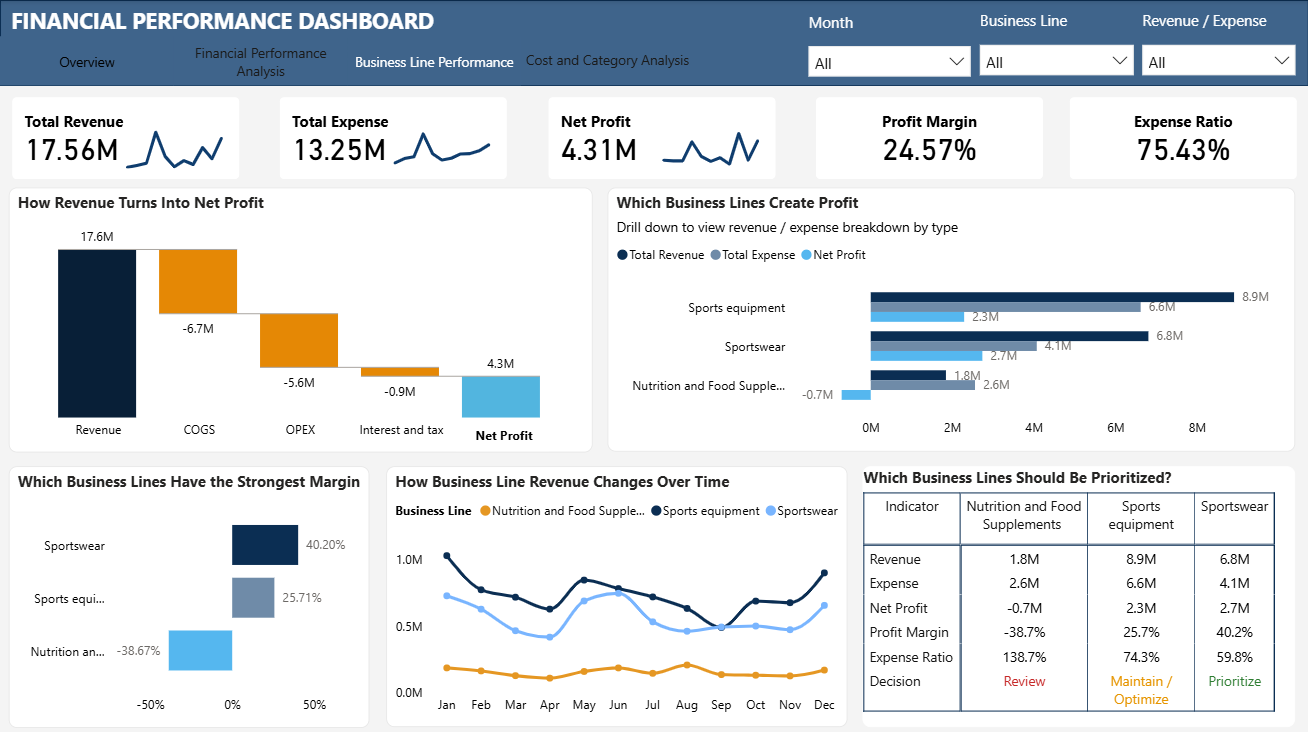

Layout of this report page (visuals, bound fields, positions):
{"tool":"powerbi","page":{"name":"Business Line Performance","canvas":[1280,720],"ordinal":2},"visuals":[{"type":"shape","box":[0,0,1280.3,84.2],"z":0},{"type":"cardVisual","fields":{"Data":["Measure.Expense Ratio"]},"box":[1034.1,83.2,246.2,104.9],"z":0,"group":"g8"},{"type":"textbox","box":[0,0,491.6,51.4],"z":1000},{"type":"group","id":"g1","title":"Group 3","box":[0,83.2,259.7,104.9],"z":1000,"group":"g8"},{"type":"waterfallChart","title":"How Revenue Turns Into Net Profit","fields":{"Category":["Waterfall Steps Simple.Step"],"Y":["Waterfall Steps Simple.Waterfall Step Value Simple"]},"box":[8.6,183.9,571.1,259.2],"z":1000,"group":"g9"},{"type":"actionButton","title":"Overview","box":[0,35.5,170,47.7],"z":2000},{"type":"group","id":"g2","title":"Group 3","box":[262,83.2,260.1,105.2],"z":2000,"group":"g8"},{"type":"actionButton","box":[170,35.5,170,47.7],"z":3000},{"type":"slicer","fields":{"Values":["Dim_BusinessLine.Business Line"]},"box":[953.8,39.3,160,42.8],"z":3000,"group":"g6"},{"type":"slicer","fields":{"Values":["Dim_AccountType.Revenue / Expense Group"]},"box":[1113.2,39.9,159.4,42.5],"z":3000,"group":"g7"},{"type":"slicer","fields":{"Values":["Dim_Date.Month"]},"box":[786.8,40.6,167.8,42.8],"z":3000,"group":"g5"},{"type":"group","id":"g3","title":"Group 3","box":[524.3,83.2,259.3,104.9],"z":3000,"group":"g8"},{"type":"textbox","box":[446.4,410.9,90.5,30.6],"z":3000,"group":"g9"},{"type":"textbox","box":[953.8,5.1,153.6,35.5],"z":4000,"group":"g6"},{"type":"textbox","box":[1113.6,5.1,153.4,35.7],"z":4000,"group":"g7"},{"type":"textbox","box":[786.8,6.4,161.1,35.5],"z":4000,"group":"g5"},{"type":"group","id":"g4","title":"Group 3","box":[785.9,83.2,246.2,104.9],"z":4000,"group":"g8"},{"type":"textbox","box":[390.1,209.1,90.5,30.6],"z":4000},{"type":"actionButton","box":[339.9,35.5,170,47.7],"z":5000},{"type":"cardVisual","fields":{"Data":["Measure.Total Revenue"]},"box":[0,83.2,246.6,104.9],"z":5000,"group":"g1"},{"type":"cardVisual","fields":{"Data":["Measure.Total Expense"]},"box":[262,83.2,246.6,104.9],"z":5000,"group":"g2"},{"type":"cardVisual","fields":{"Data":["Measure.Net Profit"]},"box":[524.3,83.2,246.6,104.9],"z":5000,"group":"g3"},{"type":"cardVisual","fields":{"Data":["Measure.Profit Margin"]},"box":[785.9,83.2,246.2,104.9],"z":5000,"group":"g4"},{"type":"actionButton","box":[509.9,33.7,168.8,47.7],"z":6000},{"type":"group","id":"g5","title":"Group 2","box":[786.8,6.4,167,76.5],"z":7000},{"type":"group","id":"g6","title":"Group 2","box":[953.8,5.1,159.4,76.5],"z":8000},{"type":"group","id":"g7","title":"Group 2","box":[1113.2,5.1,159.4,77.8],"z":9000},{"type":"group","id":"g8","title":"Group 1","box":[0,83.2,1280.3,105.2],"z":10000},{"type":"clusteredBarChart","title":"Which Business Lines Create Profit","fields":{"Category":["Dim_BusinessLine.Business Line","Dim_AccountType.Revenue / Expense Group"],"Y":["Measure.Total Revenue","Measure.Total Expense","Measure.Net Profit"]},"box":[594.3,183.4,672.6,258],"z":11000},{"type":"group","id":"g9","title":"Group 4","box":[8.6,183.9,571.1,259.2],"z":12000},{"type":"lineChart","title":"How Business Line Revenue Changes Over Time","fields":{"Y":["Measure.Total Revenue"],"Series":["Dim_BusinessLine.Business Line"],"Category":["Dim_Date.Year Hierarchy.Year","Dim_Date.Year Hierarchy.Quarter","Dim_Date.Year Hierarchy.Month Short"]},"box":[377.9,456.1,451.2,255.6],"z":13000},{"type":"clusteredBarChart","title":"Which Business Lines Have the Strongest Margin","fields":{"Category":["Dim_BusinessLine.Business Line"],"Y":["Measure.Profit Margin"]},"box":[9.1,456.4,353,255.8],"z":14000},{"type":"pivotTable","title":"Which Business Lines Should Be Prioritized?","fields":{"Columns":["Dim_BusinessLine.Business Line"],"Rows":["Business Line Metrics.Metric"],"Values":["Measure.Business Line Metric Value"]},"box":[843.8,456.1,423.1,255.6],"z":15000},{"type":"lineChart","fields":{"Y":["Measure.Monthly Revenue Growth %"],"Category":["Dim_Date.Month"]},"box":[92.3,109.5,167.4,61.3],"z":16000,"group":"g1"},{"type":"lineChart","fields":{"Category":["Dim_Date.Month"],"Y":["Measure.Monthly Expense Growth %"]},"box":[354.3,109.5,167.4,61.3],"z":16000,"group":"g2"},{"type":"lineChart","fields":{"Category":["Dim_Date.Month"],"Y":["Measure.Monthly Net Profit Growth %"]},"box":[616.6,109.5,167.4,61.3],"z":16000,"group":"g3"}]}

Visuals, with their boxes in screenshot pixels (x1, y1, x2, y2), scaled from the page's 1280x720 canvas onto the 1308x732 screenshot:
shape: x1=0 y1=0 x2=1307 y2=86
cardVisual - Measure.Expense Ratio: x1=1057 y1=85 x2=1307 y2=191
textbox: x1=0 y1=0 x2=502 y2=52
"Group 3" group: x1=0 y1=85 x2=265 y2=191
"How Revenue Turns Into Net Profit" waterfallChart: x1=9 y1=187 x2=592 y2=450
"Overview" actionButton: x1=0 y1=36 x2=174 y2=85
"Group 3" group: x1=268 y1=85 x2=534 y2=192
actionButton: x1=174 y1=36 x2=347 y2=85
slicer - Dim_BusinessLine.Business Line: x1=975 y1=40 x2=1138 y2=83
slicer - Dim_AccountType.Revenue / Expense Group: x1=1138 y1=41 x2=1300 y2=84
slicer - Dim_Date.Month: x1=804 y1=41 x2=975 y2=85
"Group 3" group: x1=536 y1=85 x2=801 y2=191
textbox: x1=456 y1=418 x2=549 y2=449
textbox: x1=975 y1=5 x2=1132 y2=41
textbox: x1=1138 y1=5 x2=1295 y2=41
textbox: x1=804 y1=7 x2=969 y2=43
"Group 3" group: x1=803 y1=85 x2=1055 y2=191
textbox: x1=399 y1=213 x2=491 y2=244
actionButton: x1=347 y1=36 x2=521 y2=85
cardVisual - Measure.Total Revenue: x1=0 y1=85 x2=252 y2=191
cardVisual - Measure.Total Expense: x1=268 y1=85 x2=520 y2=191
cardVisual - Measure.Net Profit: x1=536 y1=85 x2=788 y2=191
cardVisual - Measure.Profit Margin: x1=803 y1=85 x2=1055 y2=191
actionButton: x1=521 y1=34 x2=694 y2=83
"Group 2" group: x1=804 y1=7 x2=975 y2=84
"Group 2" group: x1=975 y1=5 x2=1138 y2=83
"Group 2" group: x1=1138 y1=5 x2=1300 y2=84
"Group 1" group: x1=0 y1=85 x2=1307 y2=192
"Which Business Lines Create Profit" clusteredBarChart: x1=607 y1=186 x2=1295 y2=449
"Group 4" group: x1=9 y1=187 x2=592 y2=450
"How Business Line Revenue Changes Over Time" lineChart: x1=386 y1=464 x2=847 y2=724
"Which Business Lines Have the Strongest Margin" clusteredBarChart: x1=9 y1=464 x2=370 y2=724
"Which Business Lines Should Be Prioritized?" pivotTable: x1=862 y1=464 x2=1295 y2=724
lineChart - Measure.Monthly Revenue Growth % x Dim_Date.Month: x1=94 y1=111 x2=265 y2=174
lineChart - Dim_Date.Month x Measure.Monthly Expense Growth %: x1=362 y1=111 x2=533 y2=174
lineChart - Dim_Date.Month x Measure.Monthly Net Profit Growth %: x1=630 y1=111 x2=801 y2=174
